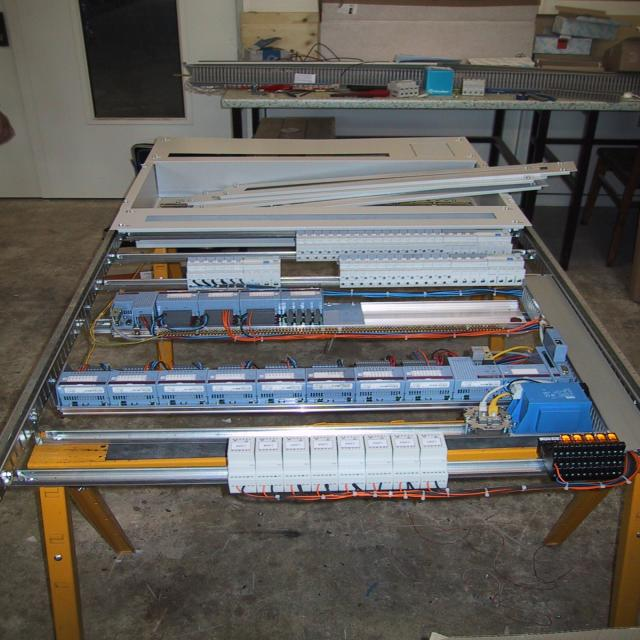Dimmer: (227, 431, 258, 492), (417, 432, 449, 488), (391, 433, 421, 489), (256, 437, 285, 492), (283, 436, 311, 492), (310, 436, 338, 491), (340, 435, 365, 491), (366, 434, 391, 490)
FI: (487, 253, 525, 286), (243, 256, 281, 287), (476, 229, 513, 254)
Leitungsschutzschalter: (440, 254, 453, 286), (196, 257, 208, 290), (205, 256, 217, 289), (412, 254, 424, 287), (431, 254, 443, 287), (186, 258, 198, 290), (233, 257, 245, 289), (394, 255, 406, 287), (477, 254, 489, 286), (468, 254, 480, 286), (403, 255, 415, 286), (214, 257, 225, 290), (224, 257, 235, 290), (422, 254, 433, 287), (367, 255, 378, 287), (450, 254, 461, 286), (340, 255, 350, 288), (349, 255, 359, 288), (358, 255, 368, 287), (377, 255, 387, 287), (386, 255, 396, 287), (459, 254, 469, 286), (442, 230, 453, 250), (468, 230, 479, 250), (451, 229, 461, 250), (459, 229, 469, 250), (433, 229, 444, 246), (407, 230, 418, 246), (416, 230, 426, 246), (425, 229, 435, 245), (296, 231, 306, 246), (348, 230, 357, 246), (357, 230, 366, 246), (365, 230, 374, 246), (373, 230, 382, 246), (382, 230, 391, 246), (399, 231, 409, 245), (330, 231, 339, 246), (340, 230, 348, 246), (314, 231, 322, 246), (322, 231, 330, 246), (306, 231, 314, 245), (391, 231, 399, 245)
SPS_System_Steuerungskomponente: (447, 357, 504, 381), (256, 367, 306, 384), (56, 372, 112, 387), (107, 371, 158, 387), (206, 369, 257, 385), (304, 367, 355, 383), (155, 370, 209, 385), (499, 365, 553, 380), (356, 366, 405, 382), (403, 366, 455, 381), (238, 290, 282, 301), (281, 289, 323, 300), (197, 290, 240, 300), (157, 290, 199, 300)
